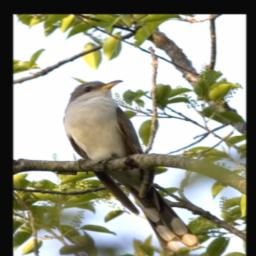Cuckoo: (63, 80, 199, 252)
